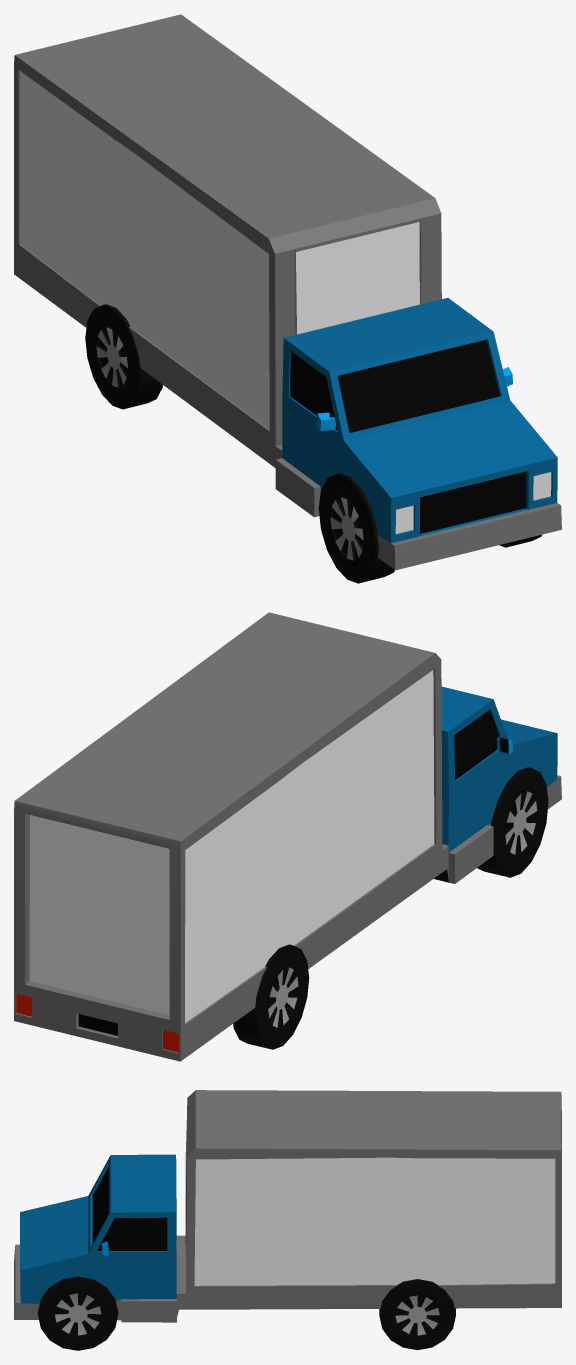
The model's file is truckblue.fbx.
The picture shows the model from 3 angles, top to bottom: view 1: azimuth 30°, elevation 25°; view 2: azimuth 150°, elevation 25°; view 3: azimuth 270°, elevation 25°; orthographic projection. The views are drawn at different scales.
Visible parts, largest first — view 1: Cube.001, Cube.002, Cube.005; view 2: Cube.001, Cube.002, Cube.005; view 3: Cube.001, Cube.003, Cube.004.
Part boxes in pixels (x1=…): Cube.001: x1=14, y1=14, x2=561, y2=570; Cube.002: x1=318, y1=473, x2=394, y2=583; Cube.005: x1=85, y1=304, x2=162, y2=409; Cube.001: x1=14, y1=612, x2=561, y2=1061; Cube.002: x1=477, y1=767, x2=548, y2=877; Cube.005: x1=233, y1=944, x2=309, y2=1049; Cube.001: x1=14, y1=1090, x2=561, y2=1322; Cube.003: x1=37, y1=1276, x2=118, y2=1350; Cube.004: x1=379, y1=1279, x2=455, y2=1350.
Size of the model in its own units: 131 by 182 by 448.
1 material, 1 textured.
